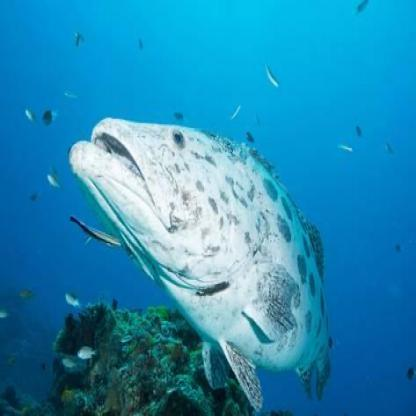Serranidae -Groupers-: (66, 108, 338, 416)
